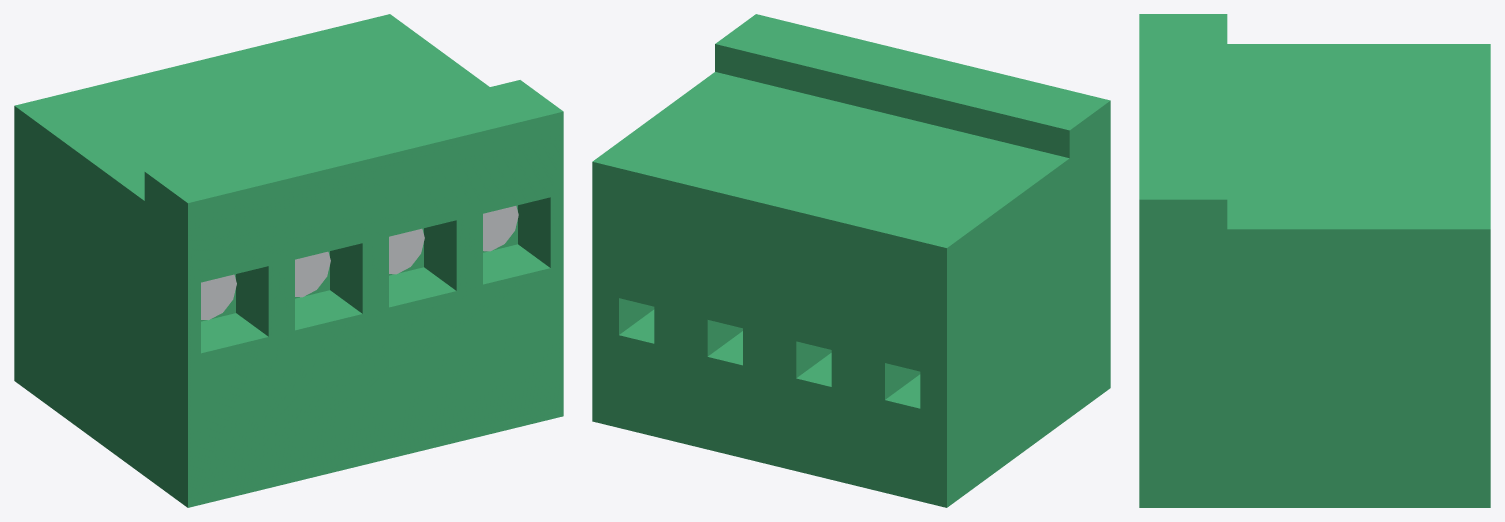
Rendered from terminal-plug.glb.
3 renders of one model, left to right at view 1: azimuth 30°, elevation 25°; view 2: azimuth 150°, elevation 25°; view 3: azimuth 270°, elevation 25°, orthographic. The views are drawn at different scales.
Parts seen in each view (by area): view 1: body, t-1, t-2, t-3, t-4; view 2: body; view 3: body.
Part boxes in pixels (x1,y1,x2,y2): body: [14, 14, 563, 507]; t-1: [201, 274, 236, 320]; t-2: [295, 251, 330, 297]; t-3: [389, 228, 424, 274]; t-4: [483, 206, 518, 251]; body: [592, 14, 1110, 507]; body: [1139, 14, 1490, 507].
Size of what is drawn, in the model's own units: 0.02 by 0.0155 by 0.016.
